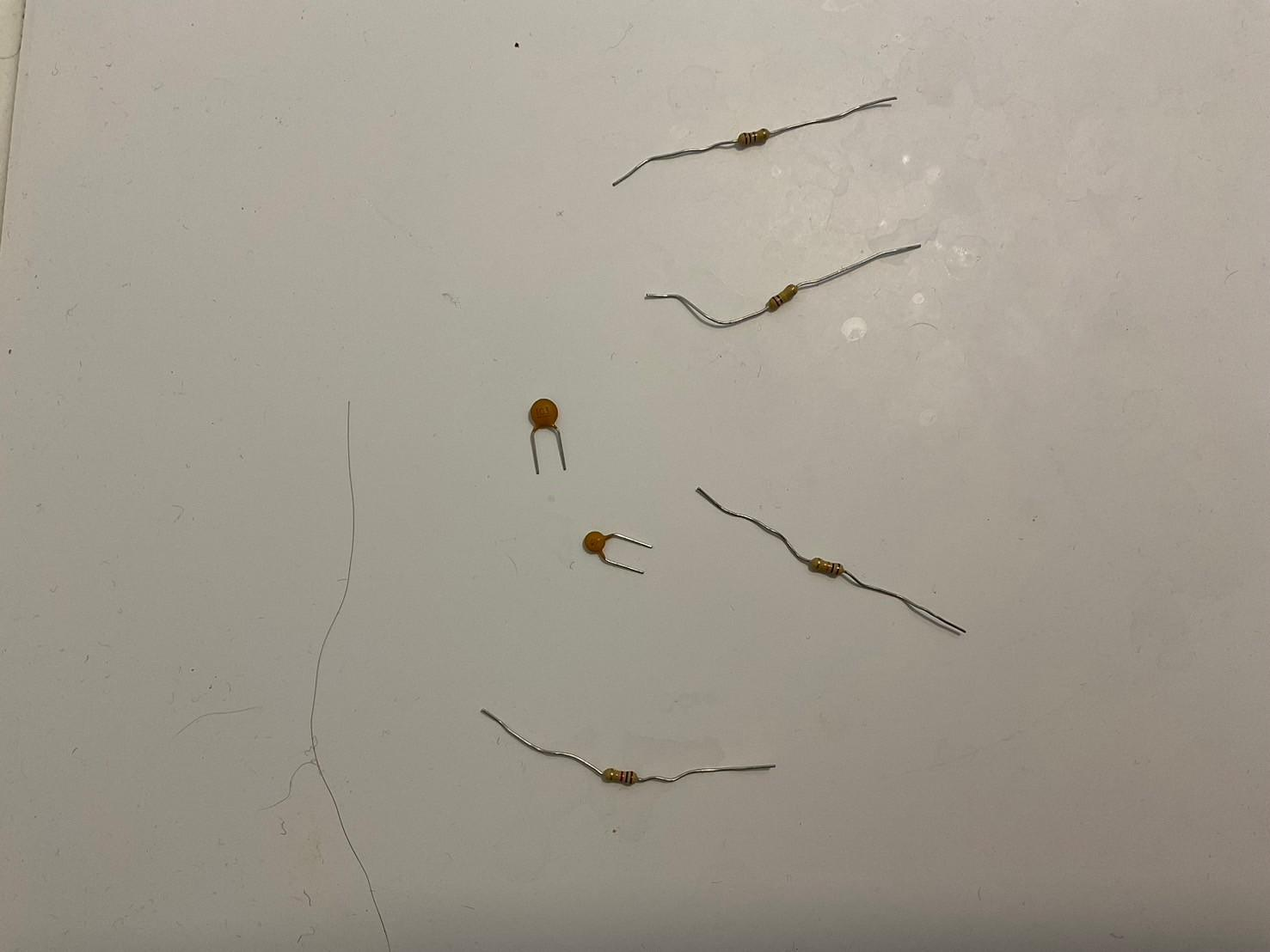resistor: (765, 283, 799, 312), (809, 556, 844, 578), (737, 127, 770, 148), (603, 767, 637, 787)
